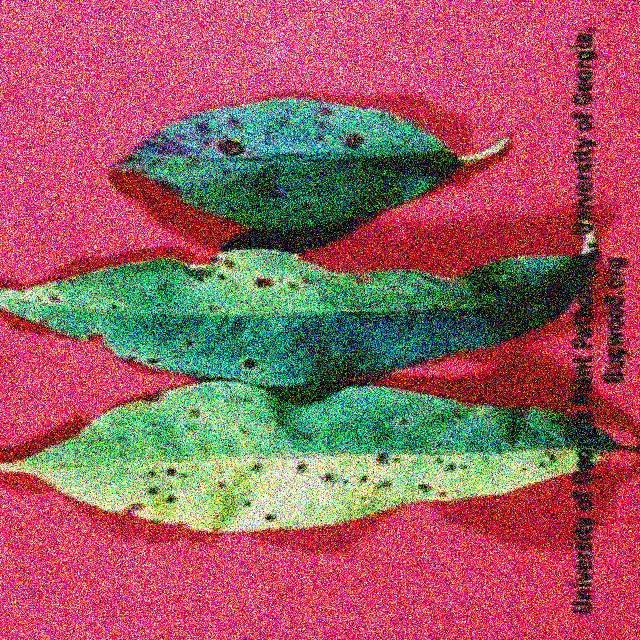shot_hole: (16, 241, 565, 390), (20, 392, 569, 541), (63, 100, 479, 228)
